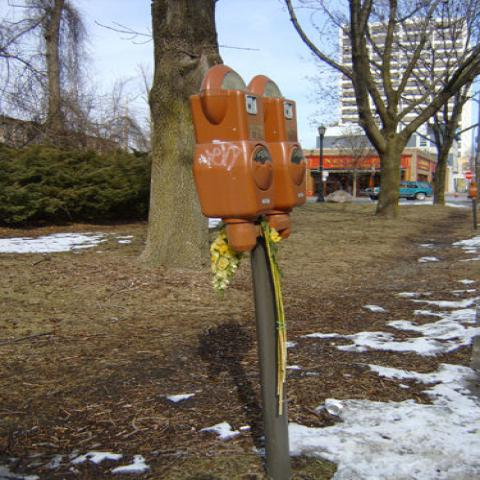car: (366, 182, 434, 200)
